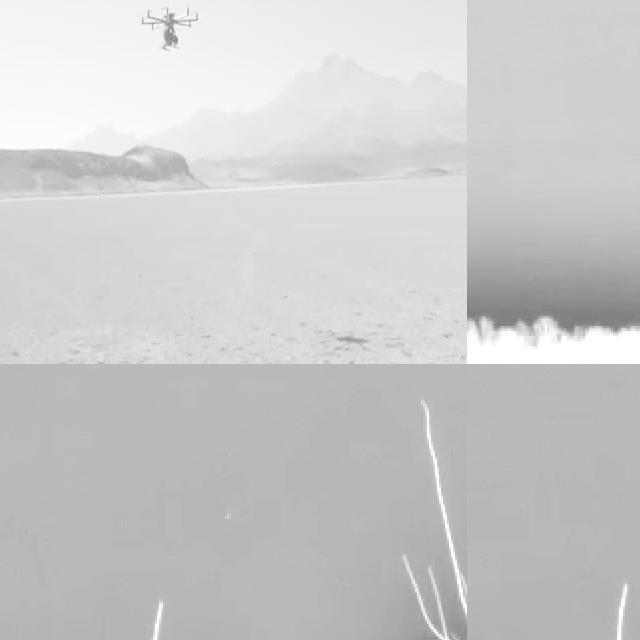0: (214, 504, 238, 536)
drone: (139, 0, 202, 53)
